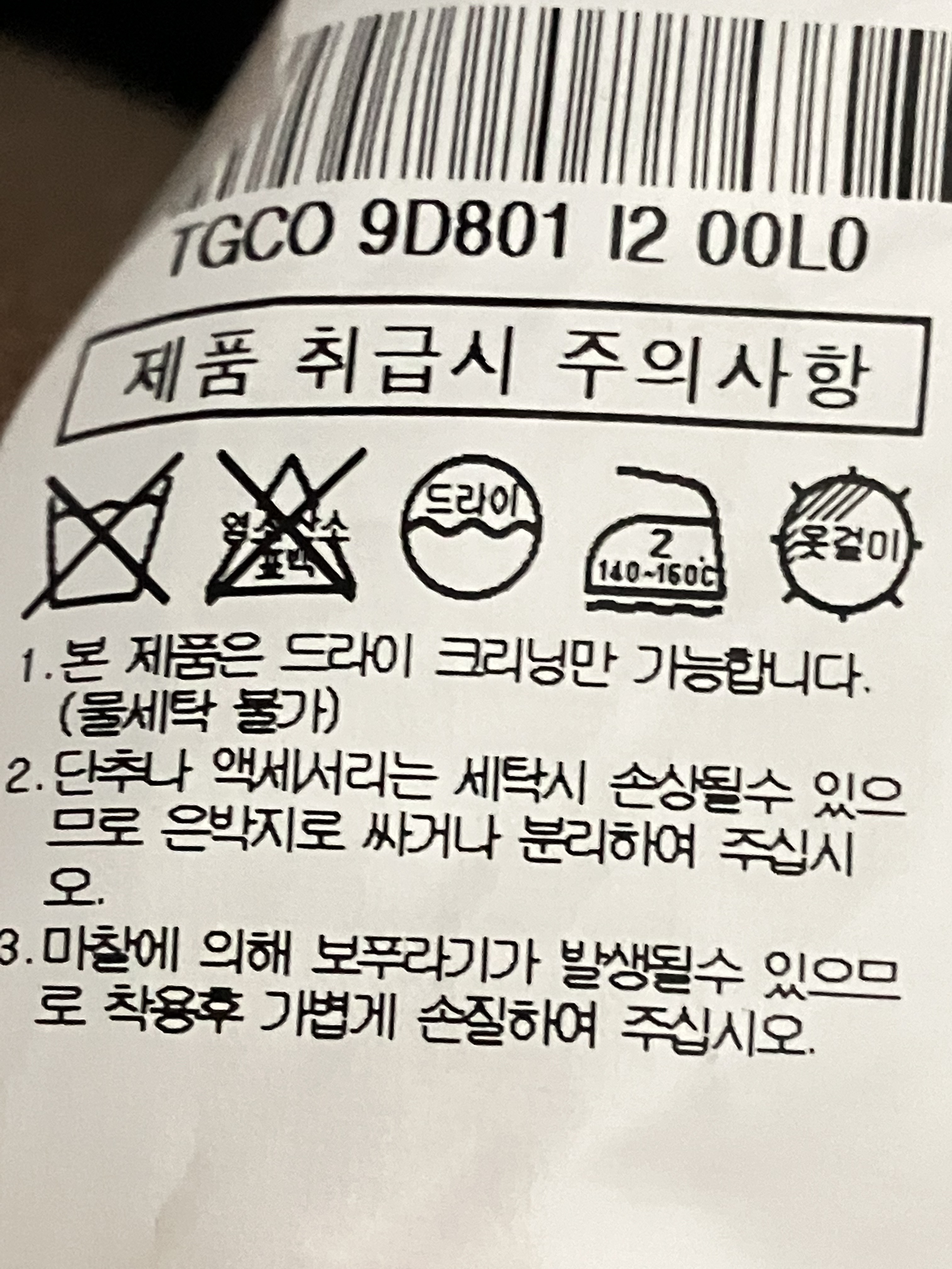KR_dry_clean: (395, 442, 547, 608)
KR_flat_dry_in_shade: (772, 459, 921, 625)
KR_iron_medium_temp_with_cloth: (573, 456, 740, 625)
KR_no_bleach: (195, 444, 362, 612)
KR_no_wash: (29, 469, 171, 619)
